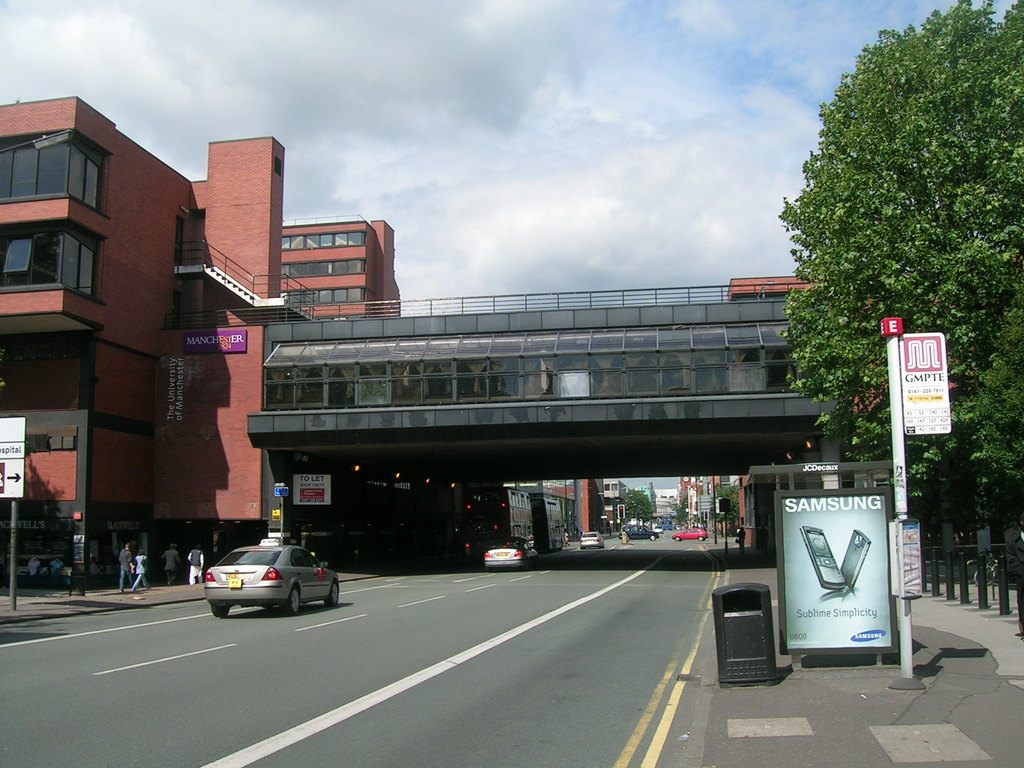Car: (204, 544, 337, 616), (487, 531, 533, 568), (618, 524, 661, 538), (671, 526, 709, 539), (580, 531, 604, 549)
